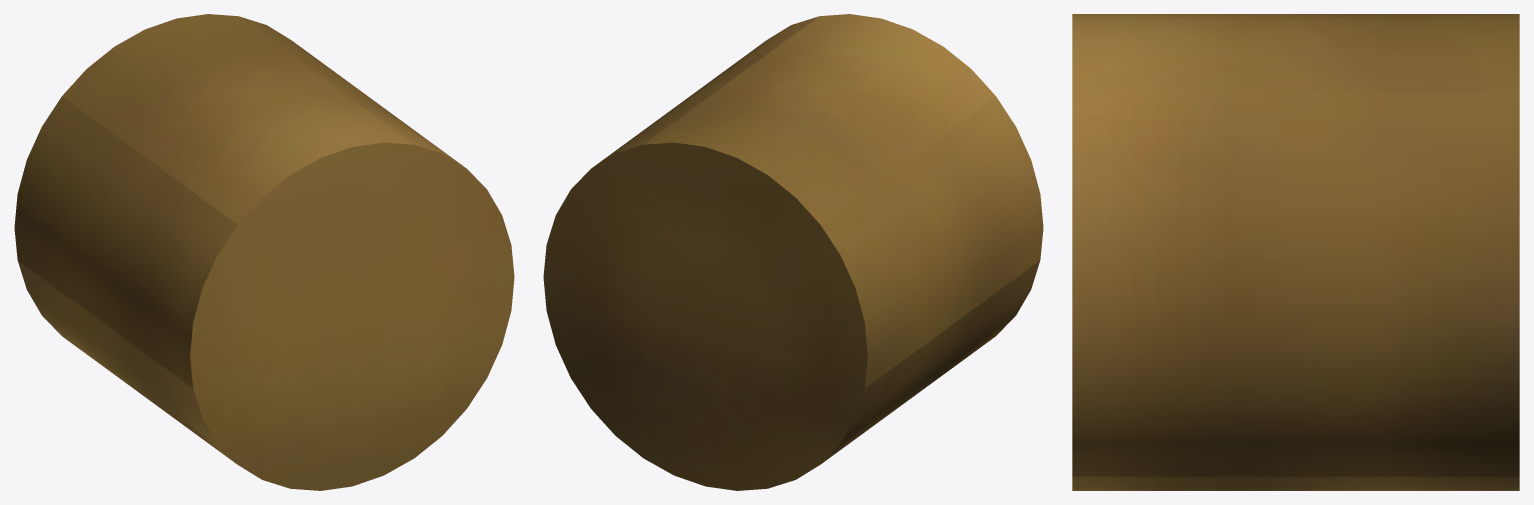
File: body__vane_0_upper_mount.glb
3 renders of one model, left to right at view 1: azimuth 30°, elevation 25°; view 2: azimuth 150°, elevation 25°; view 3: azimuth 270°, elevation 25°, orthographic. The views are drawn at different scales.
Visible parts, largest first — view 1: geometry_0; view 2: geometry_0; view 3: geometry_0.
Part boxes in pixels (<box>): geometry_0: <box>14,14,514,490</box>; geometry_0: <box>543,14,1043,490</box>; geometry_0: <box>1072,14,1519,490</box>.
Bounding box in the file's own units: 0.0064 × 0.0064 × 0.006.
1 material, 1 textured.
